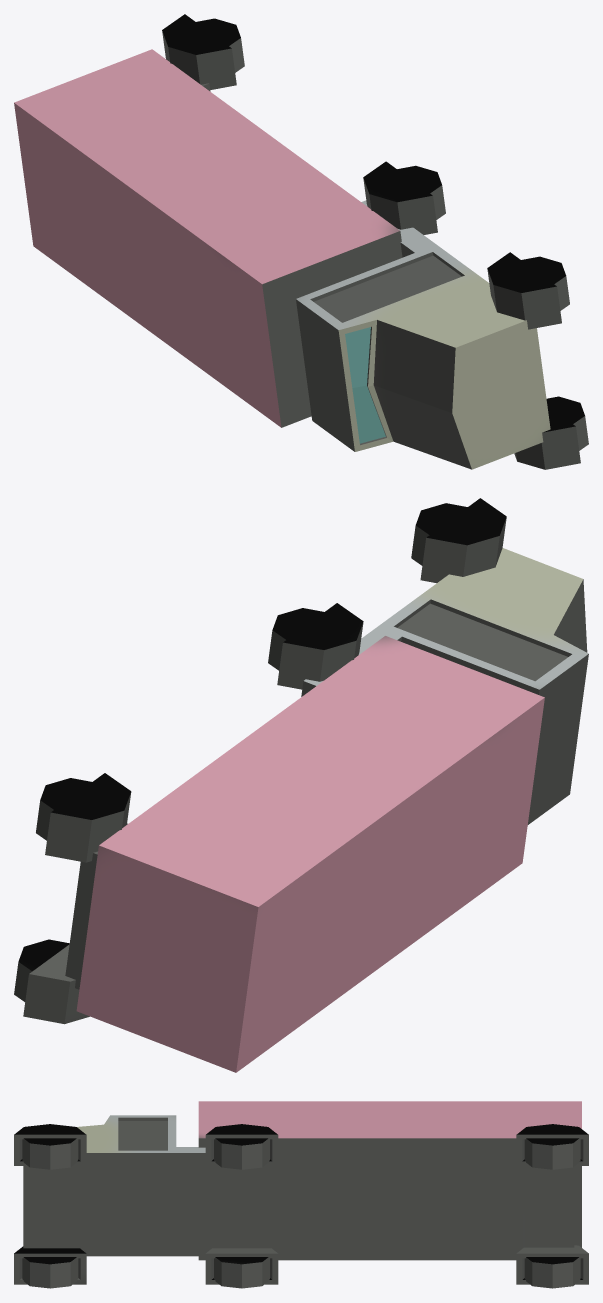
Rendered from Truck.fbx.
3 views of the same model, one above another, from view 1: azimuth 30°, elevation 25°; view 2: azimuth 150°, elevation 25°; view 3: azimuth 270°, elevation 25° (orthographic). The views are drawn at different scales.
Visible parts, largest first — view 1: Cube; view 2: Cube; view 3: Cube.
Boxes of the visible parts, x1,y1,x2,y2 form: Cube: [14, 14, 588, 469]; Cube: [14, 498, 588, 1072]; Cube: [14, 1101, 588, 1288].
Bounding box in the file's own units: 305 × 246 × 871.
